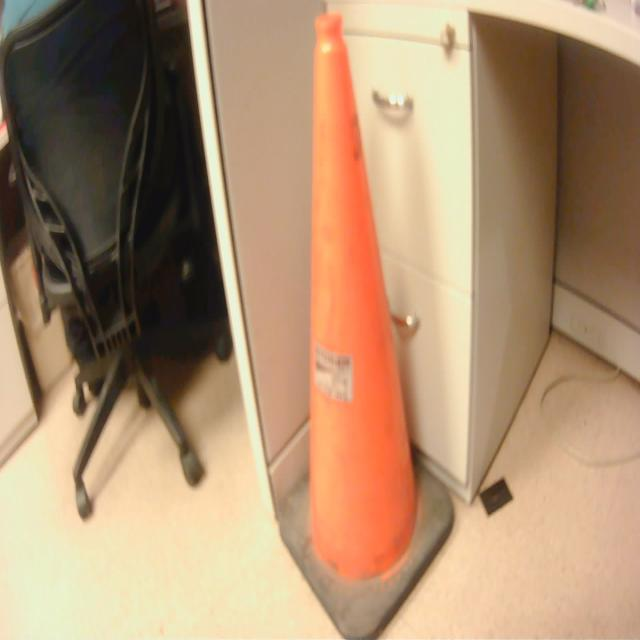traffic cone: (271, 6, 463, 640)
